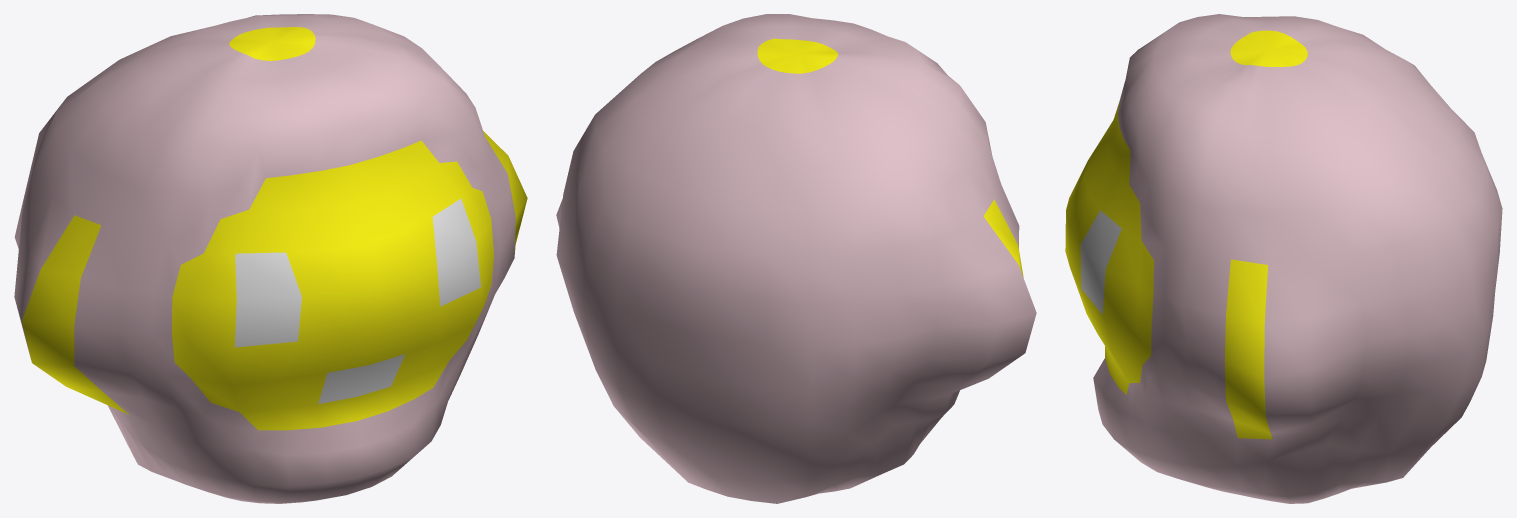
The model's file is head-y.gltf.
3 renders of one model, left to right at view 1: azimuth 30°, elevation 25°; view 2: azimuth 150°, elevation 25°; view 3: azimuth 270°, elevation 25°, orthographic. The views are drawn at different scales.
Visible parts, largest first — view 1: Sphere; view 2: Sphere; view 3: Sphere.
Part boxes in pixels (box(x1,y1,x2,y2)): Sphere: box(14, 14, 527, 503); Sphere: box(556, 14, 1036, 503); Sphere: box(1065, 14, 1502, 503).
Size of the model in its own units: 2.76 by 2.33 by 2.13.
